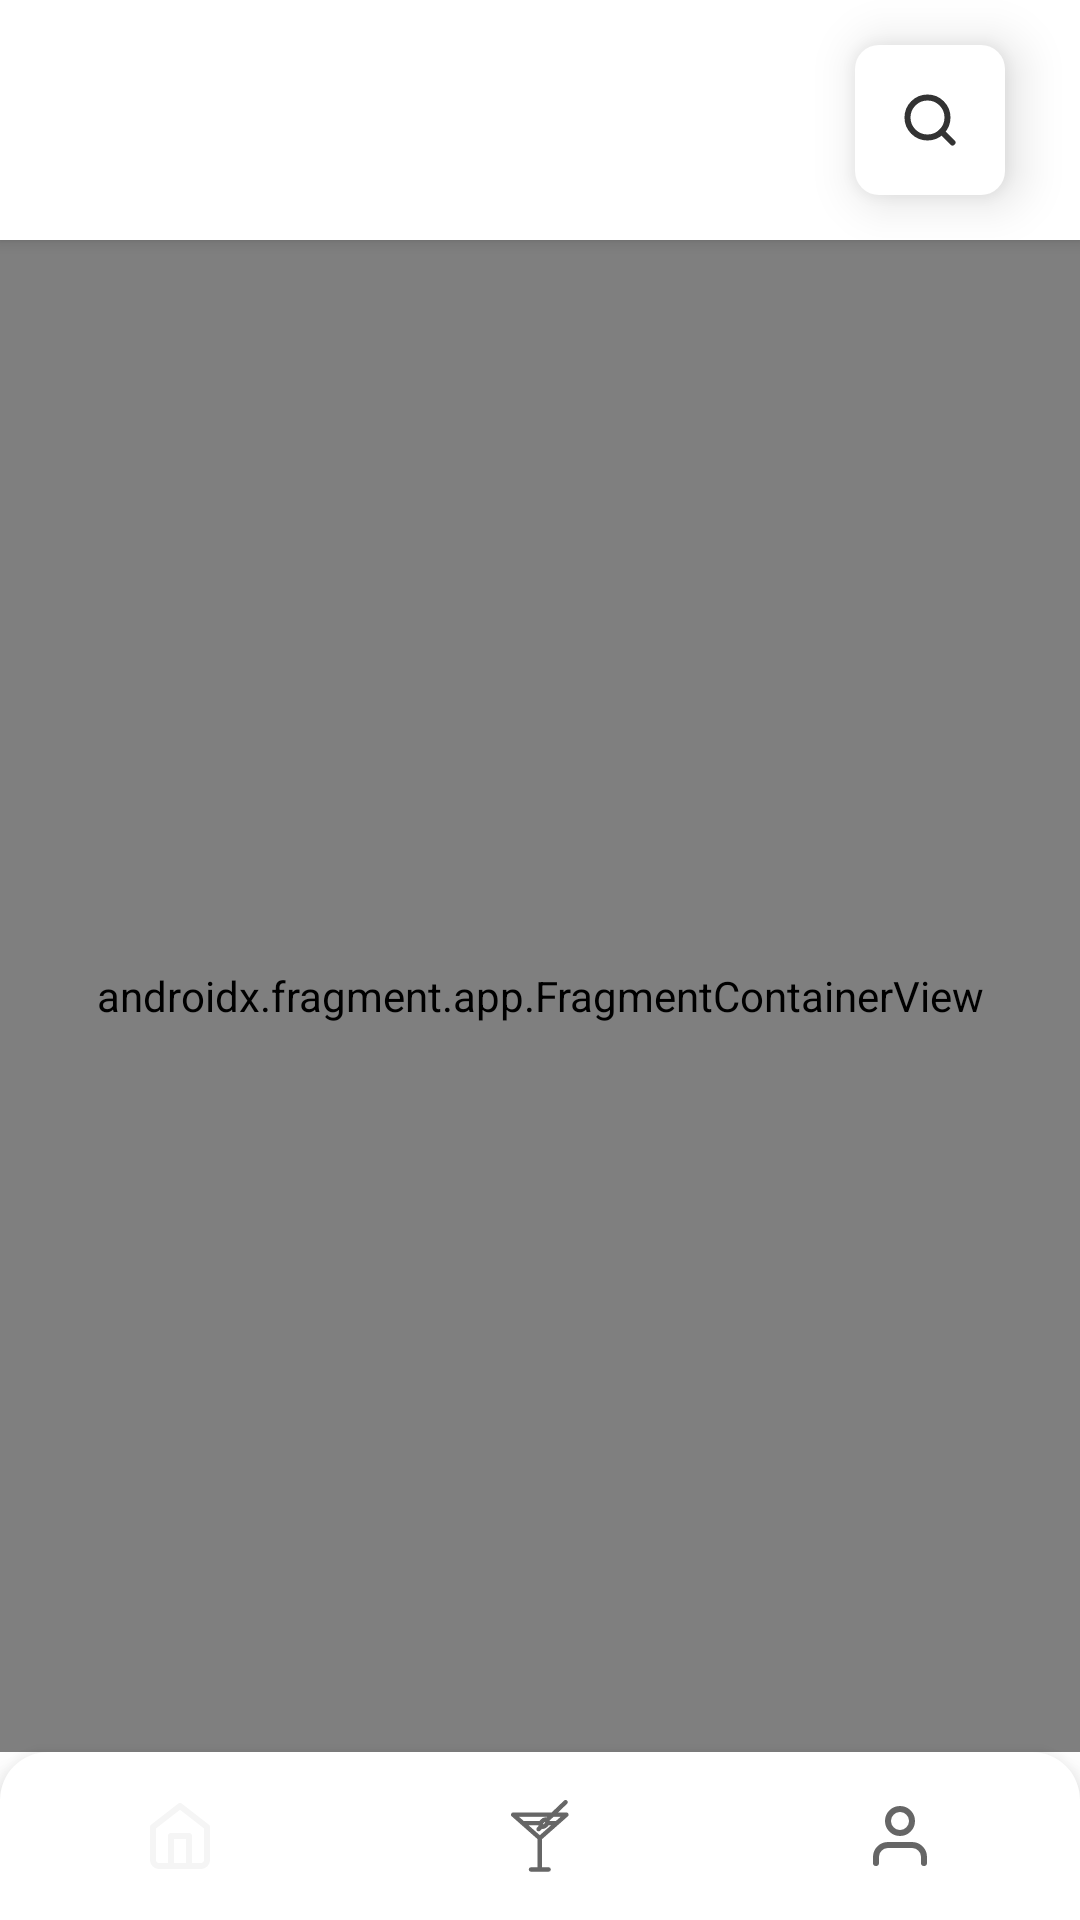

Where to tap for icons on this 1080×1920 app screen, as [x,y]:
search: [930,120]
